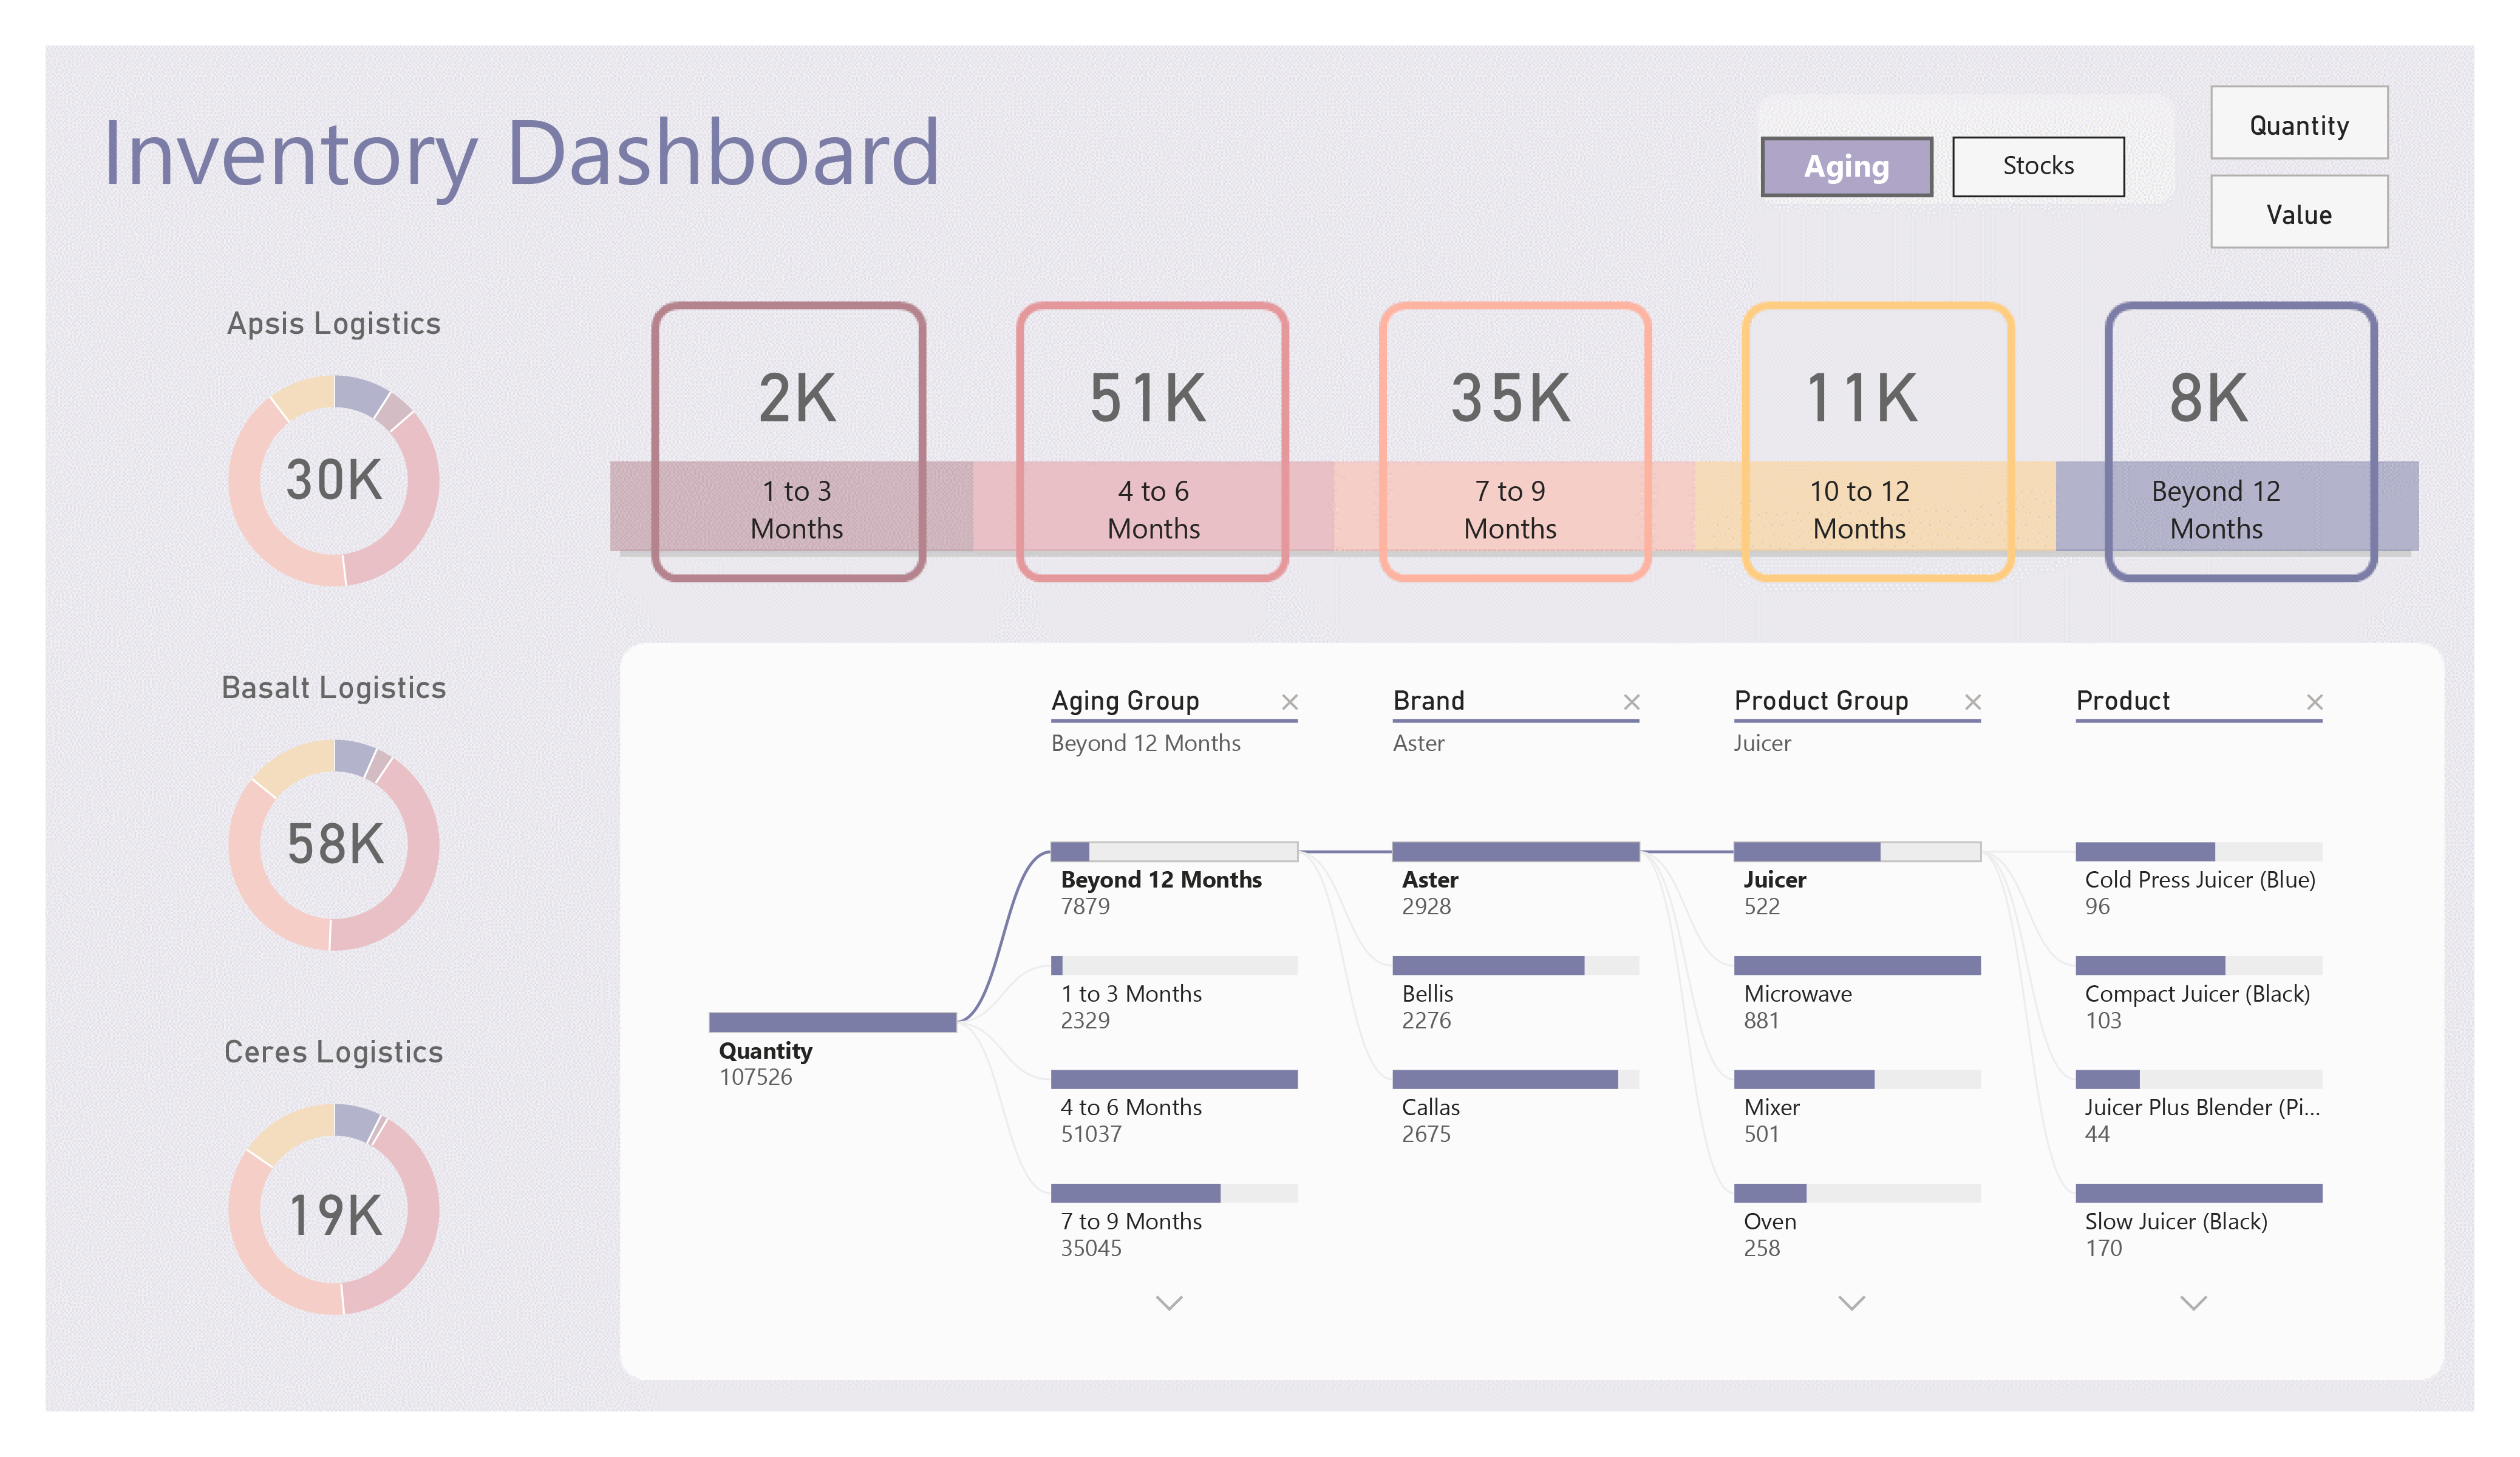

This screenshot's page, from the dashboard's own definition file:
{"tool":"powerbi","page":{"name":"Aging","canvas":[1280,720],"ordinal":0},"visuals":[{"type":"textbox","box":[28,30,469,70],"z":0},{"type":"pageNavigator","box":[902,37,200,50],"z":1000},{"type":"shape","box":[919,66,70,26],"z":2000},{"type":"advancedSlicerVisual","fields":{"Values":["Parameter.Parameter"]},"box":[1124,28,110,66],"z":3000},{"type":"textbox","box":[332,225,131,42],"z":4000},{"type":"textbox","box":[519,225,131,42],"z":5000},{"type":"textbox","box":[705,225,131,42],"z":6000},{"type":"textbox","box":[890,225,131,42],"z":7000},{"type":"textbox","box":[1077,225,131,42],"z":8000},{"type":"cardVisual","fields":{"Data":["Measure Table.Inventory Qty"]},"box":[332,145,132,80],"z":9000},{"type":"cardVisual","fields":{"Data":["Measure Table.Inventory Qty"]},"box":[518,145,132,80],"z":10000},{"type":"cardVisual","fields":{"Data":["Measure Table.Inventory Qty"]},"box":[705,145,132,80],"z":11000},{"type":"cardVisual","fields":{"Data":["Measure Table.Inventory Qty"]},"box":[890,145,132,80],"z":12000},{"type":"cardVisual","fields":{"Data":["Measure Table.Inventory Qty"]},"box":[1076,145,132,80],"z":13000},{"type":"cardVisual","fields":{"Data":["Measure Table.Inventory Qty"]},"box":[109,185,96,92],"z":14000},{"type":"cardVisual","fields":{"Data":["Measure Table.Inventory Qty"]},"box":[109,379,96,92],"z":15000},{"type":"cardVisual","fields":{"Data":["Measure Table.Inventory Qty"]},"box":[109,574,96,92],"z":16000},{"type":"donutChart","title":"Apsis Logistics","fields":{"Y":["Measure Table.Inventory Qty"],"Category":["_stock.Aging Group"]},"box":[24,126,266,188],"z":17000},{"type":"donutChart","title":"Basalt Distribution","fields":{"Y":["Measure Table.Inventory Qty"],"Category":["_stock.Aging Group"]},"box":[24,320,265.2,188.2],"z":18000},{"type":"donutChart","title":"Ceres Warehouse","fields":{"Y":["Measure Table.Inventory Qty"],"Category":["_stock.Aging Group"]},"box":[24,515,266,188],"z":19000},{"type":"decompositionTreeVisual","fields":{"Analyze":["Measure Table.Inventory Qty"],"ExplainBy":["_stock.Aging Group","_product.Brand","_product.Product Group","_product.Product"]},"box":[316,322,927,370],"z":20000},{"type":"shape","box":[306,143,927,142],"z":21000}]}

Visuals, with their boxes in screenshot pixels (x1, y1, x2, y2):
textbox: [98, 103, 989, 236]
pageNavigator: [1757, 116, 2137, 211]
shape: [1790, 171, 1922, 220]
advancedSlicerVisual - Parameter.Parameter: [2179, 98, 2387, 224]
textbox: [675, 472, 924, 552]
textbox: [1030, 472, 1279, 552]
textbox: [1383, 472, 1632, 552]
textbox: [1734, 472, 1983, 552]
textbox: [2089, 472, 2338, 552]
cardVisual - Measure Table.Inventory Qty: [675, 321, 926, 472]
cardVisual - Measure Table.Inventory Qty: [1029, 321, 1279, 472]
cardVisual - Measure Table.Inventory Qty: [1383, 321, 1634, 472]
cardVisual - Measure Table.Inventory Qty: [1734, 321, 1985, 472]
cardVisual - Measure Table.Inventory Qty: [2088, 321, 2338, 472]
cardVisual - Measure Table.Inventory Qty: [253, 396, 435, 571]
cardVisual - Measure Table.Inventory Qty: [253, 764, 435, 939]
cardVisual - Measure Table.Inventory Qty: [253, 1135, 435, 1309]
"Apsis Logistics" donutChart: [91, 285, 596, 641]
"Basalt Distribution" donutChart: [91, 653, 594, 1010]
"Ceres Warehouse" donutChart: [91, 1022, 596, 1379]
decompositionTreeVisual - Measure Table.Inventory Qty x _stock.Aging Group: [645, 656, 2404, 1359]
shape: [626, 317, 2385, 586]
